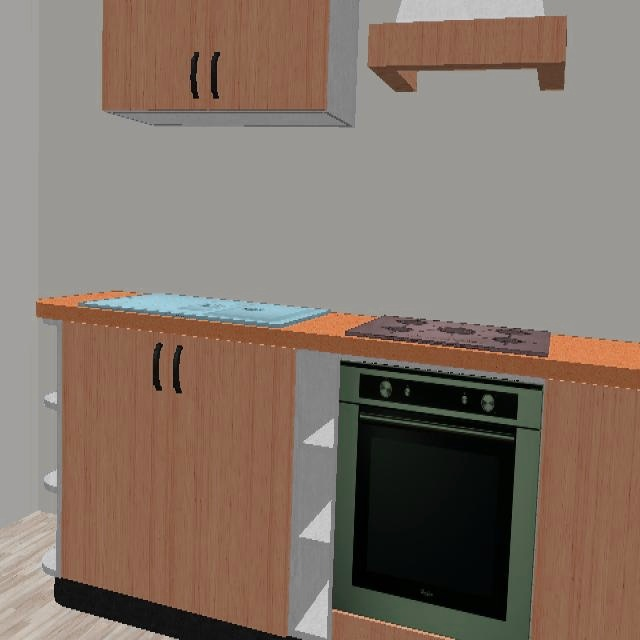cabinet: (56, 318, 380, 638), (102, 0, 357, 126), (531, 373, 640, 638)
countertop: (36, 292, 640, 389)
oven: (334, 360, 544, 638)
sink: (79, 293, 330, 328)
stove: (345, 315, 551, 356)
